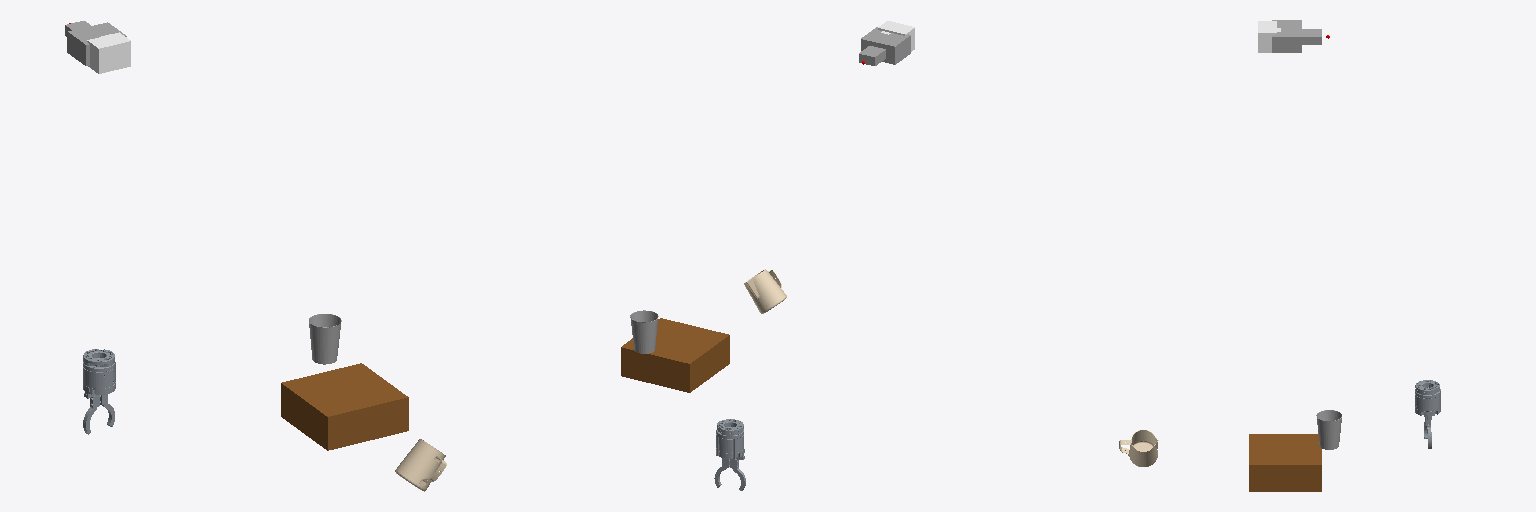
The robot description file, URDF, robot "aubo_robot":
<?xml version="1.0" ?>
<!-- =================================================================================== -->
<!-- |    This document was autogenerated by xacro from src/aubo_ros2_driver/aubo_description/urdf/xacro/inc/aubo_ros2.xacro | -->
<!-- |    EDITING THIS FILE BY HAND IS NOT RECOMMENDED                                 | -->
<!-- =================================================================================== -->
<robot name="aubo_robot">
  <link name="base_link">
    <inertial>
      <origin rpy="0 0 0" xyz="-1.4795E-13 0.0015384 0.020951"/>
      <mass value="0.83419"/>
      <inertia ixx="0.0014414" ixy="7.8809E-15" ixz="8.5328E-16" iyy="0.0013542" iyz="-1.4364E-05" izz="0.0024659"/>
    </inertial>
    <visual>
      <origin rpy="0 0 0" xyz="0 0 0"/>
      <geometry>
        <mesh filename="package://aubo_description/meshes/aubo_e5_10/visual/link0.DAE"/>
      </geometry>
      <material name="">
        <color rgba="1 1 1 1"/>
      </material>
    </visual>
    <collision>
      <origin rpy="0 0 0" xyz="0 0 0"/>
      <geometry>
        <mesh filename="package://aubo_description/meshes/aubo_e5_10/collision/link0.STL"/>
      </geometry>
    </collision>
  </link>
  <link name="shoulder_Link">
    <inertial>
      <origin rpy="0 0 0" xyz="0 0.0038 0.0006"/>
      <mass value="5.05"/>
      <inertia ixx="0.0148" ixy="0" ixz="0" iyy="0.0143" iyz="0" izz="0.0095"/>
    </inertial>
    <visual>
      <origin rpy="0 0 0" xyz="0 0 0"/>
      <geometry>
        <mesh filename="package://aubo_description/meshes/aubo_e5_10/visual/link1.DAE"/>
      </geometry>
      <material name="">
        <color rgba="1 1 1 1"/>
      </material>
    </visual>
    <collision>
      <origin rpy="0 0 0" xyz="0 0 0"/>
      <geometry>
        <mesh filename="package://aubo_description/meshes/aubo_e5_10/collision/link1.STL"/>
      </geometry>
    </collision>
  </link>
  <joint name="shoulder_joint" type="revolute">
    <origin rpy="0 0 3.1415926535897932384626433832795" xyz="0 0 0.122"/>
    <parent link="base_link"/>
    <child link="shoulder_Link"/>
    <axis xyz="0 0 1"/>
    <limit effort="133" lower="-3.054326190990076759616458844855" start_stop="207" upper="3.054326190990076759616458844855" velocity="2.5964"/>
  </joint>
  <link name="upperArm_Link">
    <inertial>
      <origin rpy="0 0 0" xyz="0.2040 0 0.0196"/>
      <mass value="11.28"/>
      <inertia ixx="0.0305" ixy="0" ixz="0" iyy="0.4505" iyz="0" izz="0.4400"/>
    </inertial>
    <visual>
      <origin rpy="0 0 0" xyz="0 0 0"/>
      <geometry>
        <mesh filename="package://aubo_description/meshes/aubo_e5_10/visual/link2.DAE"/>
      </geometry>
      <material name="">
        <color rgba="1 1 1 1"/>
      </material>
    </visual>
    <collision>
      <origin rpy="0 0 0" xyz="0 0 0"/>
      <geometry>
        <mesh filename="package://aubo_description/meshes/aubo_e5_10/collision/link2.STL"/>
      </geometry>
    </collision>
  </link>
  <joint name="upperArm_joint" type="revolute">
    <origin rpy="-1.5707963267948966192313216916398 -1.5707963267948966192313216916398 0" xyz="0 0.1215 0"/>
    <parent link="shoulder_Link"/>
    <child link="upperArm_Link"/>
    <axis xyz="0 0 1"/>
    <limit effort="133" lower="-3.054326190990076759616458844855" start_stop="207" upper="3.054326190990076759616458844855" velocity="2.5964"/>
  </joint>
  <link name="foreArm_Link">
    <inertial>
      <origin rpy="0 0 0" xyz="0.2699 0 0.0992"/>
      <mass value="2.88"/>
      <inertia ixx="0.0033" ixy="0" ixz="0" iyy="0.0575" iyz="0" izz="0.0565"/>
    </inertial>
    <visual>
      <origin rpy="0 0 0" xyz="0 0 0"/>
      <geometry>
        <mesh filename="package://aubo_description/meshes/aubo_e5_10/visual/link3.DAE"/>
      </geometry>
      <material name="">
        <color rgba="1 1 1 1"/>
      </material>
    </visual>
    <collision>
      <origin rpy="0 0 0" xyz="0 0 0"/>
      <geometry>
        <mesh filename="package://aubo_description/meshes/aubo_e5_10/collision/link3.STL"/>
      </geometry>
    </collision>
  </link>
  <joint name="foreArm_joint" type="revolute">
    <origin rpy="-3.1415926535897932384626433832795 0 0" xyz="0.408 0 0"/>
    <parent link="upperArm_Link"/>
    <child link="foreArm_Link"/>
    <axis xyz="0 0 1"/>
    <limit effort="133" lower="-3.054326190990076759616458844855" start_stop="207" upper="3.054326190990076759616458844855" velocity="2.5964"/>
  </joint>
  <link name="wrist1_Link">
    <inertial>
      <origin rpy="0 0 0" xyz="0 -0.0997 -0.0780"/>
      <mass value="1.62"/>
      <inertia ixx="0.0023" ixy="0" ixz="0" iyy="0.0013" iyz="0" izz="0.0022"/>
    </inertial>
    <visual>
      <origin rpy="0 0 0" xyz="0 0 0"/>
      <geometry>
        <mesh filename="package://aubo_description/meshes/aubo_e5_10/visual/link4.DAE"/>
      </geometry>
      <material name="">
        <color rgba="1 1 1 1"/>
      </material>
    </visual>
    <collision>
      <origin rpy="0 0 0" xyz="0 0 0"/>
      <geometry>
        <mesh filename="package://aubo_description/meshes/aubo_e5_10/collision/link4.STL"/>
      </geometry>
    </collision>
  </link>
  <joint name="wrist1_joint" type="revolute">
    <origin rpy="3.1415926535897932384626433832795 0 1.5707963267948966192313216916398" xyz="0.376 0 0"/>
    <parent link="foreArm_Link"/>
    <child link="wrist1_Link"/>
    <axis xyz="0 0 1"/>
    <limit effort="13.5" lower="-3.054326190990076759616458844855" start_stop="34" upper="3.054326190990076759616458844855" velocity="3.1105"/>
  </joint>
  <link name="wrist2_Link">
    <inertial>
      <origin rpy="0 0 0" xyz="0 -0.0028 -0.0030"/>
      <mass value="1.62"/>
      <inertia ixx="0.0023" ixy="0" ixz="0" iyy="0.0013" iyz="0" izz="0.0022"/>
    </inertial>
    <visual>
      <origin rpy="0 0 0" xyz="0 0 0"/>
      <geometry>
        <mesh filename="package://aubo_description/meshes/aubo_e5_10/visual/link5.DAE"/>
      </geometry>
      <material name="">
        <color rgba="1 1 1 1"/>
      </material>
    </visual>
    <collision>
      <origin rpy="0 0 0" xyz="0 0 0"/>
      <geometry>
        <mesh filename="package://aubo_description/meshes/aubo_e5_10/collision/link5.STL"/>
      </geometry>
    </collision>
  </link>
  <joint name="wrist2_joint" type="revolute">
    <origin rpy="-1.5707963267948966192313216916398 0 0" xyz="0 0.1025 0"/>
    <parent link="wrist1_Link"/>
    <child link="wrist2_Link"/>
    <axis xyz="0 0 1"/>
    <limit effort="13.5" lower="-3.054326190990076759616458844855" start_stop="34" upper="3.054326190990076759616458844855" velocity="3.1105"/>
  </joint>
  <link name="wrist3_Link">
    <inertial>
      <origin rpy="0 0 0" xyz="0 0 -0.0442"/>
      <mass value="0.5"/>
      <inertia ixx="0.00139395" ixy="0" ixz="0" iyy="0.00139882" iyz="0" izz="0.00224092"/>
    </inertial>
    <visual>
      <origin rpy="0 0 0" xyz="0 0 0"/>
      <geometry>
        <mesh filename="package://aubo_description/meshes/aubo_e5_10/visual/link6.DAE"/>
      </geometry>
      <material name="">
        <color rgba="1 1 1 1"/>
      </material>
    </visual>
    <collision>
      <origin rpy="0 0 0" xyz="0 0 0"/>
      <geometry>
        <mesh filename="package://aubo_description/meshes/aubo_e5_10/collision/link6.STL"/>
      </geometry>
    </collision>
  </link>
  <joint name="wrist3_joint" type="revolute">
    <origin rpy="1.5707963267948966192313216916398 0 1.7907E-15" xyz="0 -0.094 0"/>
    <parent link="wrist2_Link"/>
    <child link="wrist3_Link"/>
    <axis xyz="0 0 1"/>
    <limit effort="13.5" lower="-3.054326190990076759616458844855" start_stop="34" upper="3.054326190990076759616458844855" velocity="3.1105"/>
  </joint>
  <link name="world"/>
  <!-- world 为唯一根：world -> table_link -> base_link，移除原 world -> base_link 避免双根 -->
  <joint name="world_to_table_joint" type="fixed">
    <parent link="world"/>
    <child link="table_link"/>
    <origin rpy="0 0 0" xyz="0 0 0"/>
  </joint>
  <!-- 盒子模型：相对 world，偏移 x=0.4 y=0.18 z=高度一半=0.04，长宽 0.2 高 0.08 -->
  <link name="box_link">
    <inertial>
      <origin rpy="0 0 0" xyz="0 0 0"/>
      <mass value="0.1"/>
      <inertia ixx="0.0001" ixy="0" ixz="0" iyy="0.0001" iyz="0" izz="0.0001"/>
    </inertial>
    <visual>
      <origin rpy="0 0 0" xyz="0 0 0"/>
      <geometry>
        <box size="0.2 0.2 0.08"/>
      </geometry>
      <material name="box_material">
        <color rgba="0.6 0.4 0.2 1"/>
      </material>
    </visual>
    <collision>
      <origin rpy="0 0 0" xyz="0 0 0"/>
      <geometry>
        <box size="0.2 0.2 0.08"/>
      </geometry>
    </collision>
  </link>
  <joint name="world_to_box_joint" type="fixed">
    <parent link="world"/>
    <child link="box_link"/>
    <origin rpy="0 0 0" xyz="0.4 0.18 0.04"/>
  </joint>
  <!-- /////////////////////////////////   Camera Link   ////////////////////////////////////// -->
  <link name="camera_Link">
    <inertial>
      <origin rpy="0 0 0" xyz="-0.0005963 0.085972 -0.026401"/>
      <mass value="0.72743"/>
      <inertia ixx="0.00064649" ixy="2.7688E-06" ixz="-2.0272E-05" iyy="0.0013072" iyz="8.2399E-05" izz="0.0014971"/>
    </inertial>
    <visual>
      <origin rpy="0 0 0" xyz="0 0 0"/>
      <geometry>
        <box size="0.08 0.06 0.05"/>
      </geometry>
      <material name="">
        <color rgba="1 1 1 1"/>
      </material>
    </visual>
    <collision>
      <origin rpy="0 0 0" xyz="0 0 0"/>
      <geometry>
        <box size="0.08 0.06 0.05"/>
      </geometry>
    </collision>
  </link>
  <joint name="camera_joint" type="fixed">
    <origin rpy="0.0 0.0 0.0" xyz="0.0 0.0 0.020"/>
    <parent link="wrist3_Link"/>
    <child link="camera_Link"/>
  </joint>
  <!-- /////////////////////////////////   Kuaihuan Link   ////////////////////////////////////// -->
  <link name="kuaihuan_Link">
    <inertial>
      <origin rpy="0 0 0" xyz="-0.00074639 7.4616E-05 0.0097884"/>
      <mass value="0.21939"/>
      <inertia ixx="6.3771E-05" ixy="4.2875E-07" ixz="-1.7848E-07" iyy="6.9403E-05" iyz="-4.5085E-07" izz="0.0001149"/>
    </inertial>
    <visual>
      <origin rpy="0 0 0" xyz="0 0 0"/>
      <geometry>
        <box size="0.05 0.05 0.03"/>
      </geometry>
      <material name="">
        <color rgba="1 1 1 1"/>
      </material>
    </visual>
    <collision>
      <origin rpy="0 0 0" xyz="0 0 0"/>
      <geometry>
        <box size="0.05 0.05 0.03"/>
      </geometry>
    </collision>
  </link>
  <joint name="kuaihuan_joint" type="fixed">
    <origin rpy="0 0 3.1416" xyz="0 0 0.0215"/>
    <parent link="camera_Link"/>
    <child link="kuaihuan_Link"/>
  </joint>
  <!-- /////////////////////////////////   Grap Link   ////////////////////////////////////// -->
  <link name="grap_Link">
    <inertial>
      <origin rpy="0 0 0" xyz="-1.7896E-05 0.034049 2.2204E-16"/>
      <mass value="0.1827"/>
      <inertia ixx="8.3598E-05" ixy="1.9801E-07" ixz="-1.0929E-07" iyy="4.5508E-05" iyz="3.0889E-08" izz="0.00010397"/>
    </inertial>
    <visual>
      <origin rpy="0 0 0" xyz="0 0 0"/>
      <geometry>
        <box size="0.10 0.08 0.05"/>
      </geometry>
      <material name="">
        <color rgba="0.69804 0.69804 0.69804 1"/>
      </material>
    </visual>
    <collision>
      <origin rpy="0 0 0" xyz="0 0 0"/>
      <geometry>
        <box size="0.10 0.08 0.05"/>
      </geometry>
    </collision>
  </link>
  <joint name="grap_joint" type="fixed">
    <origin rpy="1.5708 0 -3.1241" xyz="0 0 0.031"/>
    <parent link="kuaihuan_Link"/>
    <child link="grap_Link"/>
  </joint>
  <!-- /////////////////////////////////   Grap0 Link   ////////////////////////////////////// -->
  <link name="grap0_Link">
    <inertial>
      <origin rpy="0 0 0" xyz="0.0054631 0.023534 3.0043E-07"/>
      <mass value="0.032548"/>
      <inertia ixx="3.7445E-06" ixy="3.3476E-07" ixz="1.7283E-13" iyy="8.7532E-07" iyz="2.3846E-11" izz="3.5313E-06"/>
    </inertial>
    <visual>
      <origin rpy="0 0 0" xyz="0 0 0"/>
      <geometry>
        <box size="0.03 0.06 0.025"/>
      </geometry>
      <material name="">
        <color rgba="0.69804 0.69804 0.69804 1"/>
      </material>
    </visual>
    <collision>
      <origin rpy="0 0 0" xyz="0 0 0"/>
      <geometry>
        <box size="0.03 0.06 0.025"/>
      </geometry>
    </collision>
  </link>
  <joint name="grap0_joint" type="fixed">
    <origin rpy="-3.1416 0 -3.1416" xyz="-0.009 0.06556 0"/>
    <parent link="grap_Link"/>
    <child link="grap0_Link"/>
  </joint>
  <!-- /////////////////////////////////   Grap1 Link   ////////////////////////////////////// -->
  <link name="grap1_Link">
    <inertial>
      <origin rpy="0 0 0" xyz="0.0054631 0.023533 2.0614E-07"/>
      <mass value="0.032548"/>
      <inertia ixx="3.7444E-06" ixy="3.3472E-07" ixz="-7.6637E-11" iyy="8.7529E-07" iyz="-1.1804E-11" izz="3.5313E-06"/>
    </inertial>
    <visual>
      <origin rpy="0 0 0" xyz="0 0 0"/>
      <geometry>
        <box size="0.03 0.06 0.025"/>
      </geometry>
      <material name="">
        <color rgba="0.69804 0.69804 0.69804 1"/>
      </material>
    </visual>
    <collision>
      <origin rpy="0 0 0" xyz="0 0 0"/>
      <geometry>
        <box size="0.03 0.06 0.025"/>
      </geometry>
    </collision>
  </link>
  <joint name="grap1_joint" type="fixed">
    <origin rpy="0 0 0" xyz="0.009 0.06556 0"/>
    <parent link="grap_Link"/>
    <child link="grap1_Link"/>
  </joint>
  <!-- /////////////////////////////////   End Effector Link (Gripper Tip)   ////////////////////////////////////// -->
  <link name="gripper_tip_link">
    <inertial>
      <origin rpy="0 0 0" xyz="0 0 0"/>
      <mass value="0.001"/>
      <inertia ixx="0.000001" ixy="0" ixz="0" iyy="0.000001" iyz="0" izz="0.000001"/>
    </inertial>
    <visual>
      <origin rpy="0 0 0" xyz="0 0 0"/>
      <geometry>
        <sphere radius="0.005"/>
      </geometry>
      <material name="">
        <color rgba="1 0 0 1"/>
      </material>
    </visual>
    <collision>
      <origin rpy="0 0 0" xyz="0 0 0"/>
      <geometry>
        <sphere radius="0.005"/>
      </geometry>
    </collision>
  </link>
  <joint name="grap1_to_tip_joint" type="fixed">
    <parent link="wrist3_Link"/>
    <child link="gripper_tip_link"/>
    <origin rpy="0.0 0.0 0.0" xyz="0.0 0.0 0.185"/>
  </joint>
  <transmission name="shoulder_joint_trans">
    <type>transmission_interface/SimpleTransmission</type>
    <joint name="shoulder_joint">
      <hardwareInterface>hardware_interface/PositionJointInterface</hardwareInterface>
    </joint>
    <actuator name="shoulder_joint_motor">
      <mechanicalReduction>1</mechanicalReduction>
    </actuator>
  </transmission>
  <transmission name="upperArm_joint_trans">
    <type>transmission_interface/SimpleTransmission</type>
    <joint name="upperArm_joint">
      <hardwareInterface>hardware_interface/PositionJointInterface</hardwareInterface>
    </joint>
    <actuator name="upperArm_joint_motor">
      <mechanicalReduction>1</mechanicalReduction>
    </actuator>
  </transmission>
  <transmission name="foreArm_joint_trans">
    <type>transmission_interface/SimpleTransmission</type>
    <joint name="foreArm_joint">
      <hardwareInterface>hardware_interface/PositionJointInterface</hardwareInterface>
    </joint>
    <actuator name="foreArm_joint_motor">
      <mechanicalReduction>1</mechanicalReduction>
    </actuator>
  </transmission>
  <transmission name="wrist1_joint_trans">
    <type>transmission_interface/SimpleTransmission</type>
    <joint name="wrist1_joint">
      <hardwareInterface>hardware_interface/PositionJointInterface</hardwareInterface>
    </joint>
    <actuator name="wrist1_joint_motor">
      <mechanicalReduction>1</mechanicalReduction>
    </actuator>
  </transmission>
  <transmission name="wrist2_joint_trans">
    <type>transmission_interface/SimpleTransmission</type>
    <joint name="wrist2_joint">
      <hardwareInterface>hardware_interface/PositionJointInterface</hardwareInterface>
    </joint>
    <actuator name="wrist2_joint_motor">
      <mechanicalReduction>1</mechanicalReduction>
    </actuator>
  </transmission>
  <transmission name="wrist3_joint_trans">
    <type>transmission_interface/SimpleTransmission</type>
    <joint name="wrist3_joint">
      <hardwareInterface>hardware_interface/PositionJointInterface</hardwareInterface>
    </joint>
    <actuator name="wrist3_joint_motor">
      <mechanicalReduction>1</mechanicalReduction>
    </actuator>
  </transmission>
  <!-- World map (table + fixtures): from world_map.urdf, meshes in aubo_description/meshes/table/ -->
  <link name="table_link">
    <inertial>
      <origin rpy="0 0 0" xyz="0.19298 -0.023952 0.019437"/>
      <mass value="279.84"/>
      <inertia ixx="11.635" ixy="0.0019218" ixz="-0.10753" iyy="42.069" iyz="0.024529" izz="32.91"/>
    </inertial>
    <visual>
      <origin rpy="0 0 0" xyz="0 0 0"/>
      <geometry>
        <mesh filename="package://aubo_description/meshes/table/table_link.STL"/>
      </geometry>
      <material name="">
        <color rgba="0.91373 0.84706 0.74118 1"/>
      </material>
    </visual>
    <collision>
      <origin rpy="0 0 0" xyz="0 0 0"/>
      <geometry>
        <mesh filename="package://aubo_description/meshes/table/table_link.STL"/>
      </geometry>
    </collision>
  </link>
  <joint name="world_map_table_joint" type="fixed">
    <!-- origin = base_link 在 table_link 下的位姿；rpy=0 使机械臂与 table 同向（Z 向上），原 rpy 含 roll=-π 会朝下 -->
    <origin xyz="-0.20983 -0.10483 0.028" rpy="0 0 3.1416"/>
    <parent link="table_link"/>
    <child link="base_link"/>
  </joint>
  <link name="gripper_Link">
    <inertial>
      <origin rpy="0 0 0" xyz="0.032695 2.4035E-06 -1.2647E-05"/>
      <mass value="0.49412"/>
      <inertia ixx="0.00021829" ixy="1.2071E-07" ixz="-1.196E-07" iyy="0.00019977" iyz="-1.2196E-06" izz="0.00018654"/>
    </inertial>
    <visual>
      <origin rpy="0 0 0" xyz="0 0 0"/>
      <geometry>
        <mesh filename="package://aubo_description/meshes/table/gripper_Link.STL"/>
      </geometry>
      <material name="">
        <color rgba="0.61569 0.64314 0.67451 1"/>
      </material>
    </visual>
    <collision>
      <origin rpy="0 0 0" xyz="0 0 0"/>
      <geometry>
        <mesh filename="package://aubo_description/meshes/table/gripper_Link.STL"/>
      </geometry>
    </collision>
  </link>
  <joint name="gripper_joint" type="continuous">
    <origin xyz="0.0175 0.5675 0" rpy="0.16128 -1.5708 0"/>
    <parent link="table_link"/>
    <child link="gripper_Link"/>
    <axis xyz="1 0 0"/>
  </joint>
  <link name="gripper1_Link">
    <inertial>
      <origin rpy="0 0 0" xyz="-9.5481E-06 0.013288 -1.7239E-05"/>
      <mass value="0.37475"/>
      <inertia ixx="0.00012891" ixy="1.8935E-07" ixz="-6.5087E-07" iyy="0.00012272" iyz="2E-07" izz="0.00015148"/>
    </inertial>
    <visual>
      <origin rpy="0 0 0" xyz="0 0 0"/>
      <geometry>
        <mesh filename="package://aubo_description/meshes/table/gripper1_Link.STL"/>
      </geometry>
      <material name="">
        <color rgba="0.69804 0.69804 0.69804 1"/>
      </material>
    </visual>
    <collision>
      <origin rpy="0 0 0" xyz="0 0 0"/>
      <geometry>
        <mesh filename="package://aubo_description/meshes/table/gripper1_Link.STL"/>
      </geometry>
    </collision>
  </link>
  <joint name="gripper1_joint" type="continuous">
    <origin xyz="-0.1225 0.5675 0" rpy="-1.5708 0 0.16039"/>
    <parent link="table_link"/>
    <child link="gripper1_Link"/>
    <axis xyz="0 1 0"/>
  </joint>
  <link name="cup_Link">
    <inertial>
      <origin rpy="0 0 0" xyz="-2.2204E-16 0.043358 -1.3878E-16"/>
      <mass value="0.0049881"/>
      <inertia ixx="6.3167E-06" ixy="2.0801E-21" ixz="-2.3293E-21" iyy="4.4216E-06" iyz="4.6127E-21" izz="6.3167E-06"/>
    </inertial>
    <visual>
      <origin rpy="0 0 0" xyz="0 0 0"/>
      <geometry>
        <mesh filename="package://aubo_description/meshes/table/cup_Link.STL"/>
      </geometry>
      <material name="">
        <color rgba="0.69804 0.69804 0.69804 1"/>
      </material>
    </visual>
    <collision>
      <origin rpy="0 0 0" xyz="0 0 0"/>
      <geometry>
        <mesh filename="package://aubo_description/meshes/table/cup_Link.STL"/>
      </geometry>
    </collision>
  </link>
  <joint name="cup_joint" type="fixed">
    <origin xyz="0.41942 0.299 0.099768" rpy="1.5773 0.0084445 0.65748"/>
    <parent link="table_link"/>
    <child link="cup_Link"/>
  </joint>
  <link name="cup350_Link">
    <inertial>
      <origin rpy="0 0 0" xyz="0.034523 -0.046212 0.0068806"/>
      <mass value="0.51778"/>
      <inertia ixx="0.00041022" ixy="-5.615E-06" ixz="-3.101E-09" iyy="0.00026606" iyz="-2.5755E-09" izz="0.00043124"/>
    </inertial>
    <visual>
      <origin rpy="0 0 0" xyz="0 0 0"/>
      <geometry>
        <mesh filename="package://aubo_description/meshes/table/cup350_Link.STL"/>
      </geometry>
      <material name="">
        <color rgba="0.91373 0.84706 0.74118 1"/>
      </material>
    </visual>
    <collision>
      <origin rpy="0 0 0" xyz="0 0 0"/>
      <geometry>
        <mesh filename="package://aubo_description/meshes/table/cup350_Link.STL"/>
      </geometry>
    </collision>
  </link>
  <joint name="cup350_joint" type="prismatic">
    <origin xyz="0.33112 -0.2075 0.038526" rpy="-2.2689 0 -1.5708"/>
    <parent link="table_link"/>
    <child link="cup350_Link"/>
    <axis xyz="0 0 1"/>
    <limit lower="0" upper="0" effort="0" velocity="0"/>
  </joint>
  <ros2_control name="auboHardwareInterface" type="system">
    <hardware>
      <plugin>fake_components/GenericSystem</plugin>
      <param name="fake_sensor_commands">False</param>
      <param name="state_following_offset">0.0</param>
    </hardware>
    <joint name="shoulder_joint">
      <command_interface name="position">
        <param name="min">-3.05</param>
        <param name="max">3.05</param>
      </command_interface>
      <state_interface name="position"/>
      <state_interface name="velocity"/>
    </joint>
    <joint name="upperArm_joint">
      <command_interface name="position">
        <param name="min">-3.05</param>
        <param name="max">3.05</param>
      </command_interface>
      <state_interface name="position"/>
      <state_interface name="velocity"/>
    </joint>
    <joint name="foreArm_joint">
      <command_interface name="position">
        <param name="min">-3.05</param>
        <param name="max">3.05</param>
      </command_interface>
      <state_interface name="position"/>
      <state_interface name="velocity"/>
    </joint>
    <joint name="wrist1_joint">
      <command_interface name="position">
        <param name="min">-3.05</param>
        <param name="max">3.05</param>
      </command_interface>
      <state_interface name="position"/>
      <state_interface name="velocity"/>
    </joint>
    <joint name="wrist2_joint">
      <command_interface name="position">
        <param name="min">-3.05</param>
        <param name="max">3.05</param>
      </command_interface>
      <state_interface name="position"/>
      <state_interface name="velocity"/>
    </joint>
    <joint name="wrist3_joint">
      <command_interface name="position">
        <param name="min">-3.05</param>
        <param name="max">3.05</param>
      </command_interface>
      <state_interface name="position"/>
      <state_interface name="velocity"/>
    </joint>
  </ros2_control>
</robot>

--- What the picture shows (computed from the rendered views, not written in the file) ---
The picture shows the robot from 3 angles, left to right: view 1: azimuth 30°, elevation 25°; view 2: azimuth 150°, elevation 25°; view 3: azimuth 270°, elevation 25°; orthographic projection.
Model aubo_robot with 20 links and 19 joints (6 revolute, 2 continuous, 1 prismatic, 10 fixed), rooted at world, posed every joint at zero.
Links seen in each view (by area): view 1: box_link, gripper_Link, cup350_Link, camera_Link, cup_Link, grap_Link; view 2: box_link, gripper_Link, cup350_Link, grap_Link, cup_Link; view 3: box_link, gripper_Link, cup350_Link, grap_Link, cup_Link.
Boxes of the visible links, bbox=[...] form: box_link: bbox=[281, 363, 408, 450]; gripper_Link: bbox=[83, 349, 115, 434]; cup350_Link: bbox=[395, 439, 446, 491]; camera_Link: bbox=[87, 32, 130, 73]; cup_Link: bbox=[309, 314, 341, 364]; grap_Link: bbox=[67, 22, 126, 65]; box_link: bbox=[621, 318, 729, 392]; gripper_Link: bbox=[714, 419, 745, 490]; cup350_Link: bbox=[744, 269, 786, 313]; grap_Link: bbox=[861, 27, 910, 64]; cup_Link: bbox=[630, 310, 658, 353]; box_link: bbox=[1249, 434, 1321, 491]; gripper_Link: bbox=[1415, 380, 1440, 448]; cup350_Link: bbox=[1119, 430, 1158, 466]; grap_Link: bbox=[1272, 20, 1301, 52]; cup_Link: bbox=[1316, 410, 1341, 449].
Size in the robot's own frame: 0.7603 by 0.8762 by 1.15 metres.
Meshes: 12 distinct files referenced, 3 mesh visuals loaded (3 binary STL); not drawn: 8 (reference not matched to a file when rendering), 1 (file found but could not be loaded).
